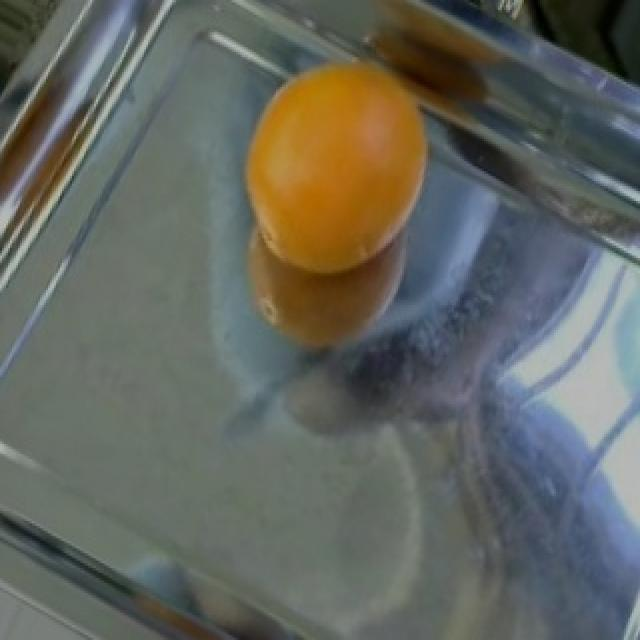Fruit: (228, 49, 458, 374), (584, 380, 640, 576)
